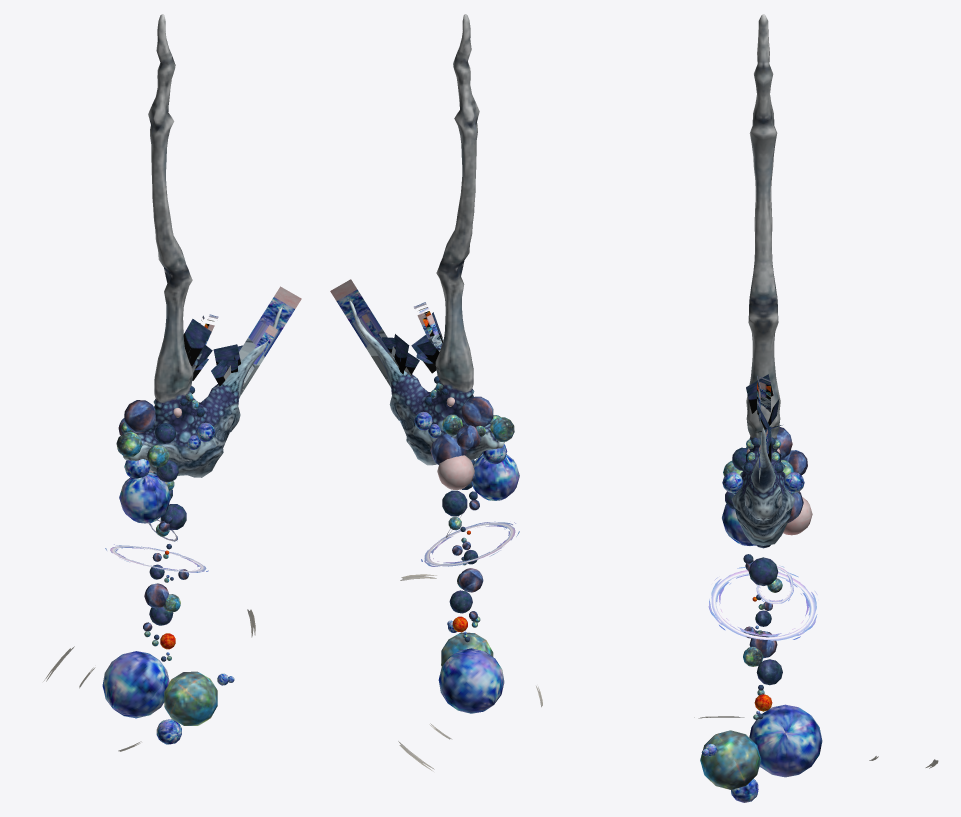
File: weapon-wp_a_1253.glb
3 renders of one model, left to right at view 1: azimuth 30°, elevation 25°; view 2: azimuth 150°, elevation 25°; view 3: azimuth 270°, elevation 25°, orthographic. The views are drawn at different scales.
Visible parts, largest first — view 1: wp_a_1253_mesh; view 2: wp_a_1253_mesh; view 3: wp_a_1253_mesh.
Part boxes in pixels (bbox=[...]): wp_a_1253_mesh: bbox=[43, 14, 301, 751]; wp_a_1253_mesh: bbox=[330, 14, 542, 771]; wp_a_1253_mesh: bbox=[694, 14, 938, 802].
Size of the model in its own units: 0.4586 by 1.29 by 0.4544.
4 materials, 4 textured.
